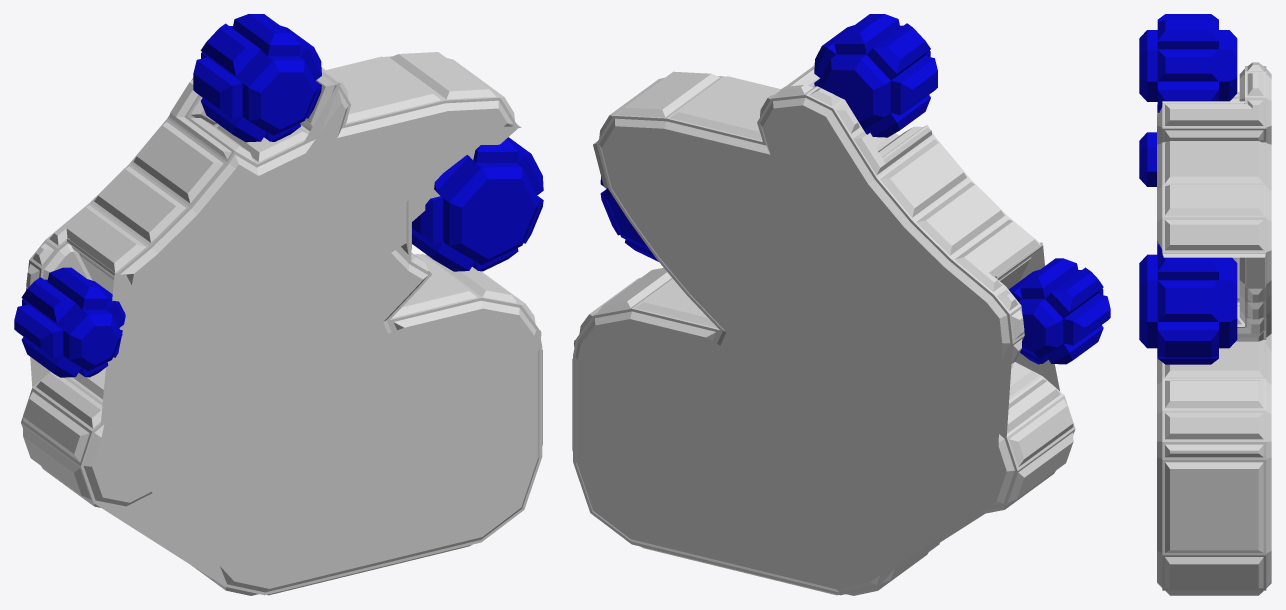
Rendered from Ch_China_名_01.fbx.
3 views of the same model, side by side, from view 1: azimuth 30°, elevation 25°; view 2: azimuth 150°, elevation 25°; view 3: azimuth 270°, elevation 25° (orthographic). The views are drawn at different scales.
Parts seen in each view (by area): view 1: sphere1; view 2: sphere1; view 3: sphere1.
Boxes of the visible parts, box(x1,y1,x2,y2) form: sphere1: box(14, 14, 543, 595); sphere1: box(572, 14, 1110, 595); sphere1: box(1139, 14, 1271, 595).
Size of the model in its own units: 0.9719 by 1.04 by 0.2541.
